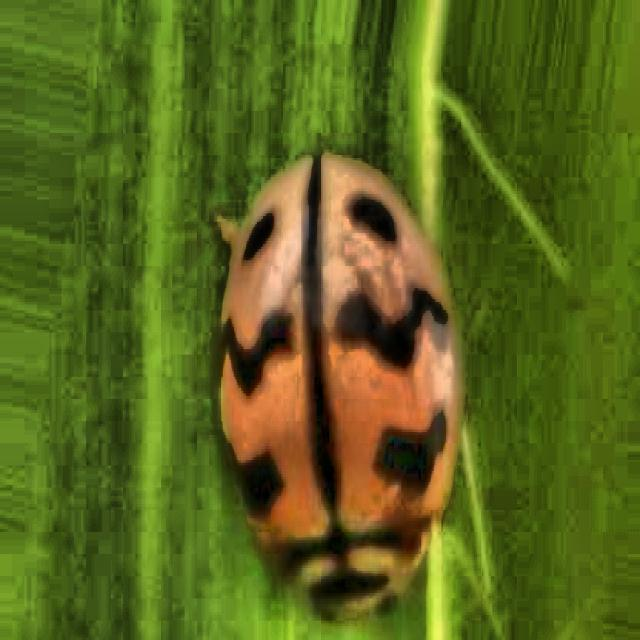Asian-Lady-beetle: (181, 98, 493, 634)
